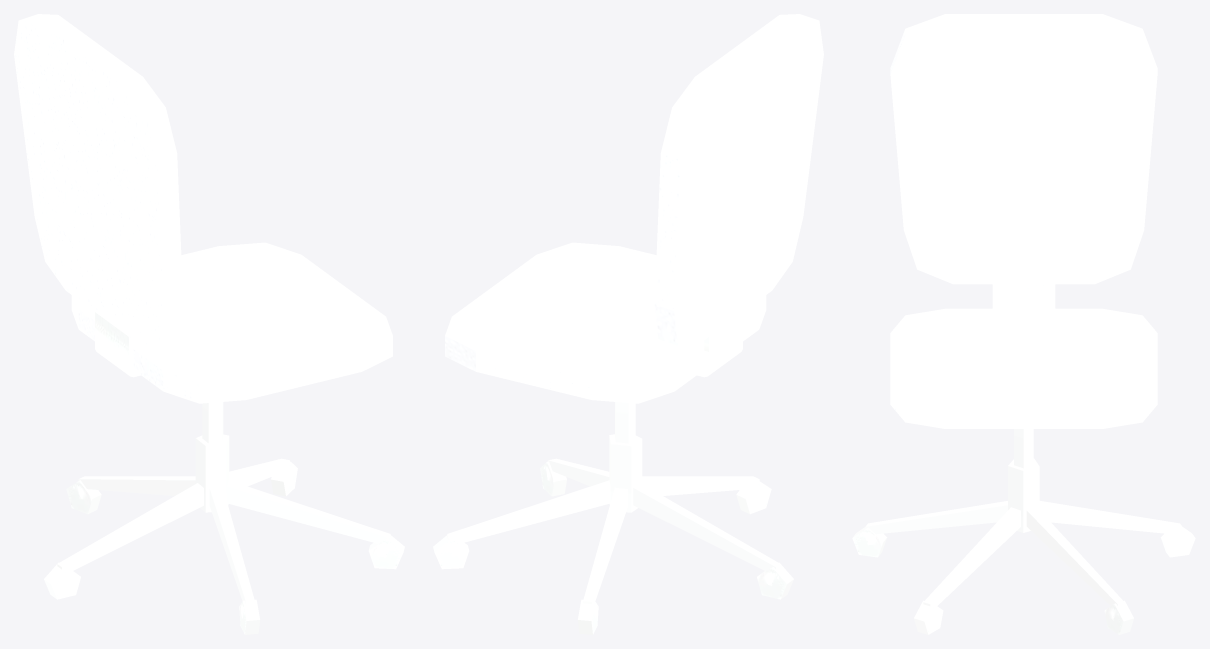
The model's file is chaise-retro.glb.
3 views of the same model, side by side, from view 1: azimuth 30°, elevation 25°; view 2: azimuth 150°, elevation 25°; view 3: azimuth 270°, elevation 25° (orthographic). The views are drawn at different scales.
Parts seen in each view (by area): view 1: Chair; view 2: Chair; view 3: Chair.
Boxes of the visible parts, x1=… form: Chair: x1=14, y1=14, x2=404, y2=634; Chair: x1=433, y1=14, x2=823, y2=634; Chair: x1=852, y1=14, x2=1195, y2=634.
Bounding box in the file's own units: 0.6372 × 1.08 × 0.67.
1 material, 1 textured.
